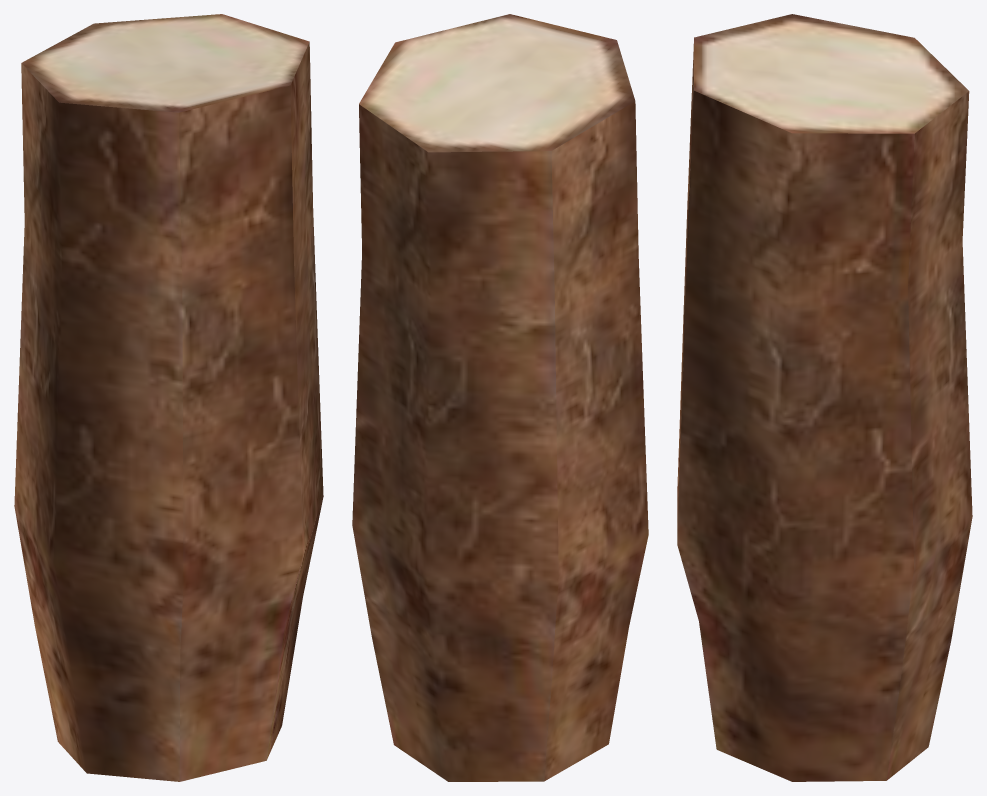
The model's file is Yam_001.glb.
The picture shows the model from 3 angles, left to right: view 1: azimuth 30°, elevation 25°; view 2: azimuth 150°, elevation 25°; view 3: azimuth 270°, elevation 25°; orthographic projection. The views are drawn at different scales.
Parts seen in each view (by area): view 1: Yam.001; view 2: Yam.001; view 3: Yam.001.
Part boxes in pixels (x1,y1,x2,y2): Yam.001: (14, 14, 323, 781); Yam.001: (352, 14, 648, 781); Yam.001: (677, 14, 972, 781).
Bounding box in the file's own units: 0.0962 × 0.2395 × 0.0938.
1 material, 1 textured.
